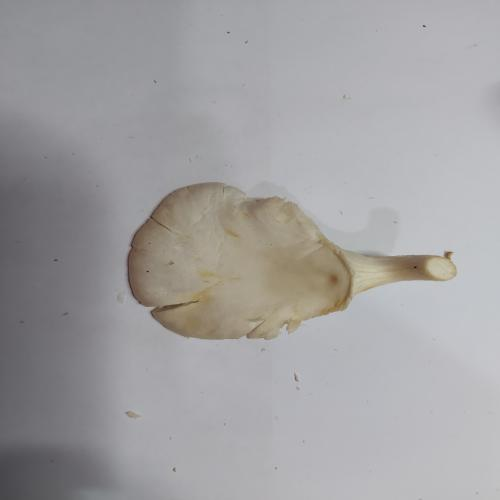Oyster Mushroom: (126, 181, 457, 341)
